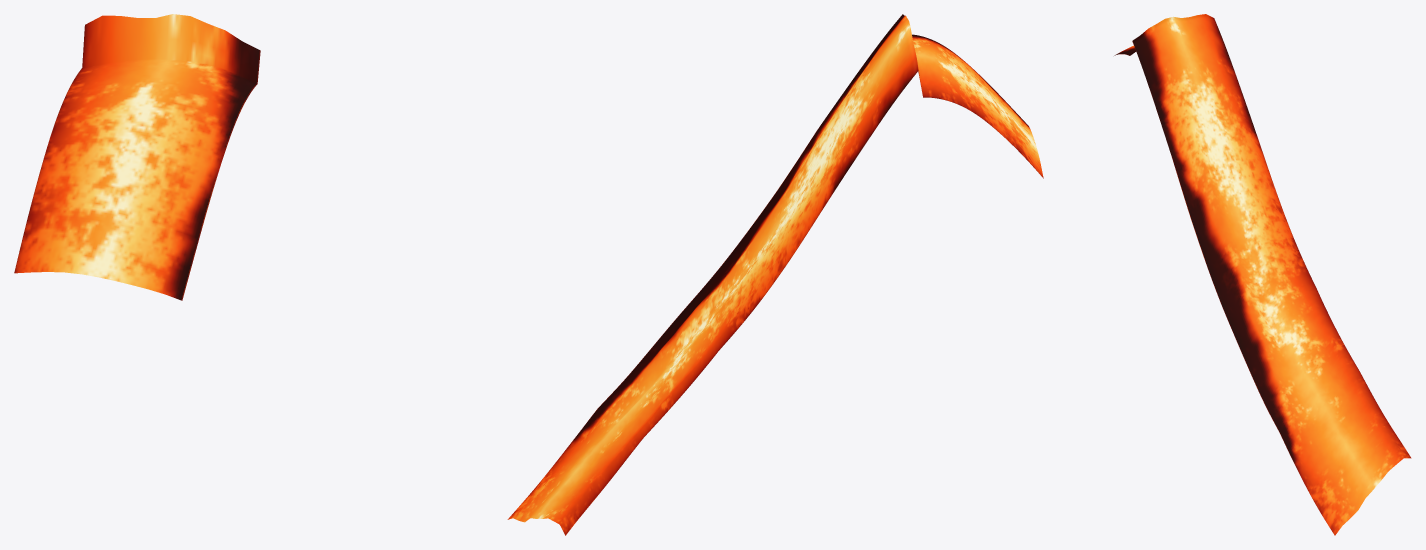
File: flow_1_0.glb
The picture shows the model from 3 angles, left to right: view 1: azimuth 30°, elevation 25°; view 2: azimuth 150°, elevation 25°; view 3: azimuth 270°, elevation 25°; orthographic projection. The views are drawn at different scales.
Size of the model in its own units: 9.73 by 10.89 by 8.37.
